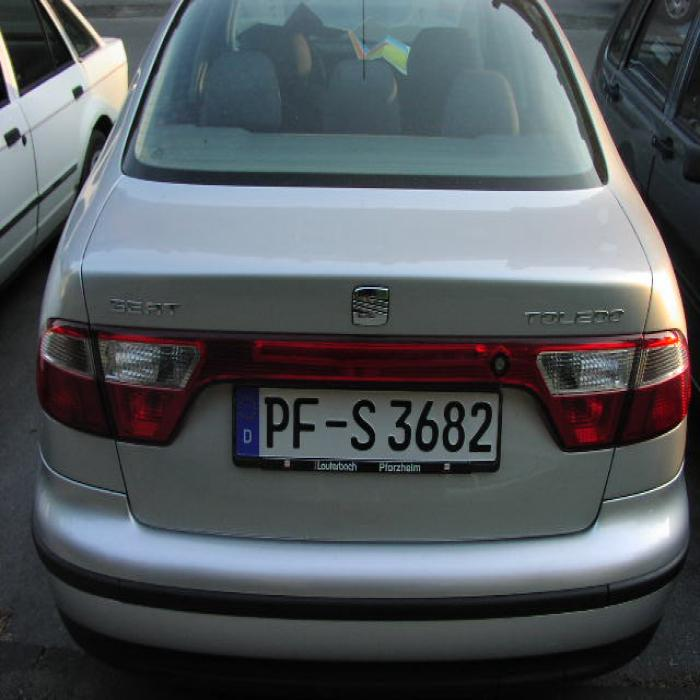number_plate: (235, 384, 497, 459)
